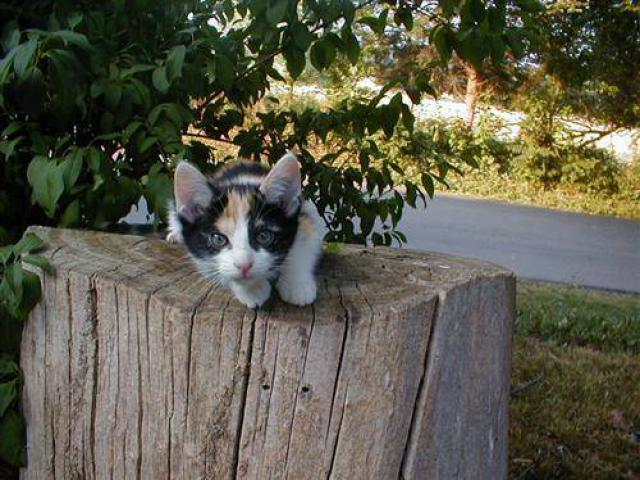cat: (159, 144, 339, 318)
